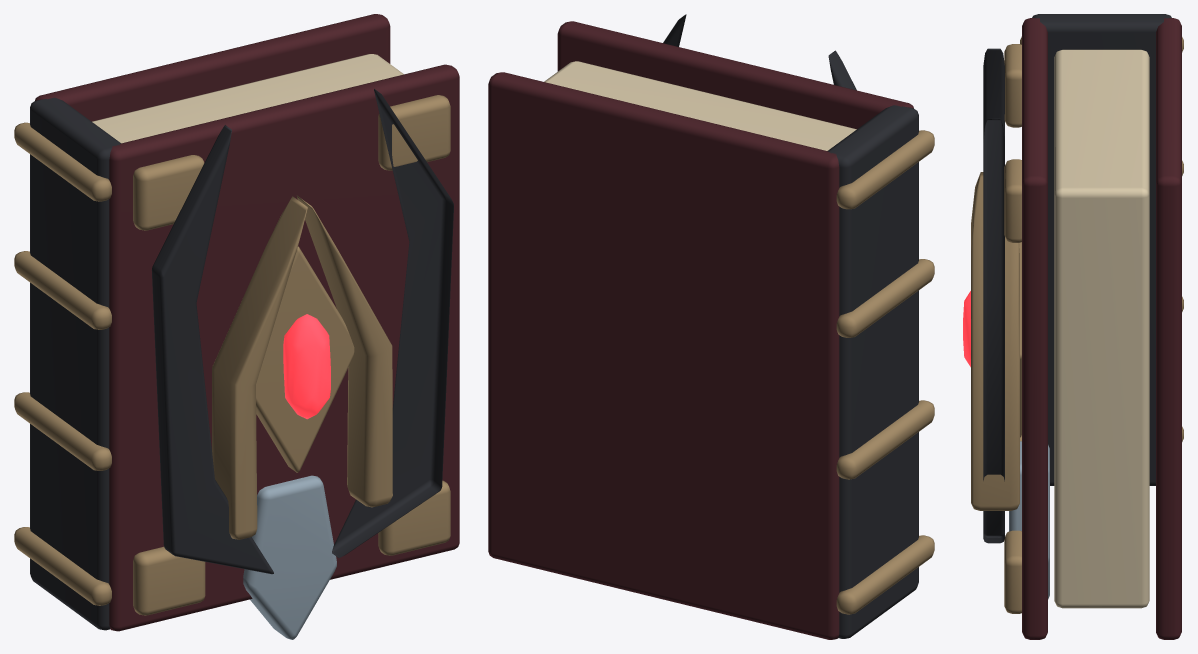
The model's file is codex-of-the-veil.glb.
3 renders of one model, left to right at view 1: azimuth 30°, elevation 25°; view 2: azimuth 150°, elevation 25°; view 3: azimuth 270°, elevation 25°, orthographic. The views are drawn at different scales.
Parts seen in each view (by area): view 1: Leather cover, Spine, Codex cathedral clasp, Codex cathedral clasp.001, Open lancet arch.028, Leather cover.001, Open lancet arch.029, Book hanging clasp, Cover sigil, Page block, Faceted spirit crystal.006, Book corner (+7 smaller); view 2: Leather cover.001, Spine, Leather cover, Page block, Spine rib.003, Spine rib, Spine rib.001, Spine rib.002; view 3: Page block, Leather cover.001, Leather cover, Spine, Open lancet arch.029, Codex cathedral clasp.001, Codex cathedral clasp, Book corner.003, Book corner.002, Book corner.001, Book hanging clasp, Faceted spirit crystal.006 (+1 smaller).
Part boxes in pixels (<box>): Leather cover: <box>109,64,459,631</box>; Spine: <box>30,97,120,630</box>; Codex cathedral clasp: <box>151,125,273,574</box>; Codex cathedral clasp.001: <box>332,89,453,557</box>; Open lancet arch.028: <box>212,196,307,539</box>; Leather cover.001: <box>35,14,390,121</box>; Open lancet arch.029: <box>296,195,392,507</box>; Book hanging clasp: <box>243,475,336,639</box>; Cover sigil: <box>256,246,354,472</box>; Page block: <box>92,54,403,143</box>; Faceted spirit crystal.006: <box>283,314,330,419</box>; Book corner: <box>133,546,205,615</box>; Leather cover.001: <box>488,72,839,639</box>; Spine: <box>827,105,918,638</box>; Leather cover: <box>557,21,913,128</box>; Page block: <box>544,61,856,150</box>; Spine rib.003: <box>836,130,934,209</box>; Spine rib: <box>836,535,934,614</box>; Spine rib.001: <box>836,400,934,479</box>; Spine rib.002: <box>836,259,934,337</box>; Page block: <box>1054,49,1149,608</box>; Leather cover.001: <box>1156,18,1181,639</box>; Leather cover: <box>1022,18,1047,639</box>; Spine: <box>1032,14,1171,485</box>; Open lancet arch.029: <box>971,174,1019,510</box>; Codex cathedral clasp.001: <box>983,118,1004,543</box>; Codex cathedral clasp: <box>983,48,1004,142</box>; Book corner.003: <box>1004,159,1021,242</box>; Book corner.002: <box>1004,530,1021,613</box>; Book corner.001: <box>1004,44,1021,127</box>; Book hanging clasp: <box>1009,441,1049,599</box>; Faceted spirit crystal.006: <box>963,291,970,367</box>.
Size of the model in its own units: 0.3005 by 0.4204 by 0.1617.
